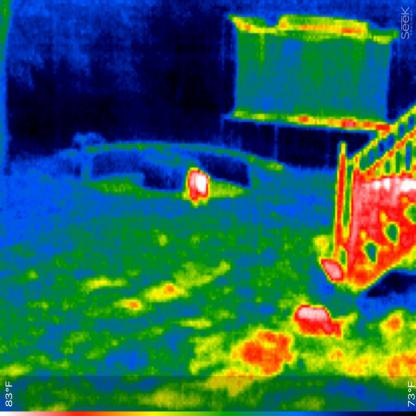dog: (179, 163, 211, 211)
